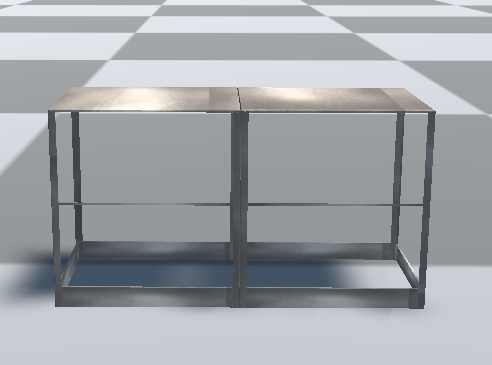Rack: (47, 84, 436, 308)
